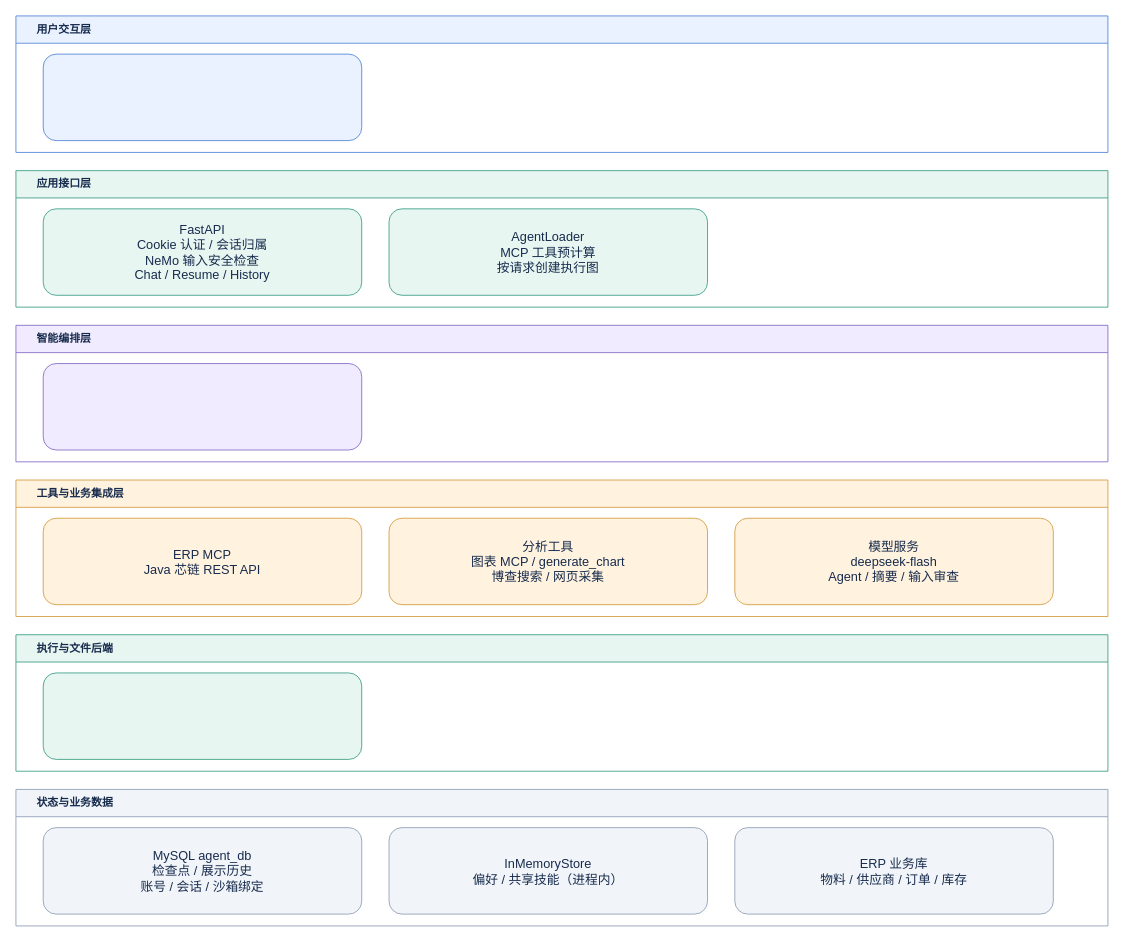
Image size: 1124x942. Some labels were removed from this diagram. Each missing label, with the centre of its shape:
"CompositeBackend OpenSandbox：用户级沙箱 StoreBackend：偏好与技能" goes at (x=202, y=715).
"DeepAgents / LangGraph 主 Agent：协调与汇总 分析子 Agent：查询与分析 订单子 Agent：受控写入" goes at (x=202, y=406).
"Vue 3 工作台 登录注册 / 会话列表 SSE 答复 / 图表预览 补充信息 / 人工审批" goes at (x=202, y=97).
